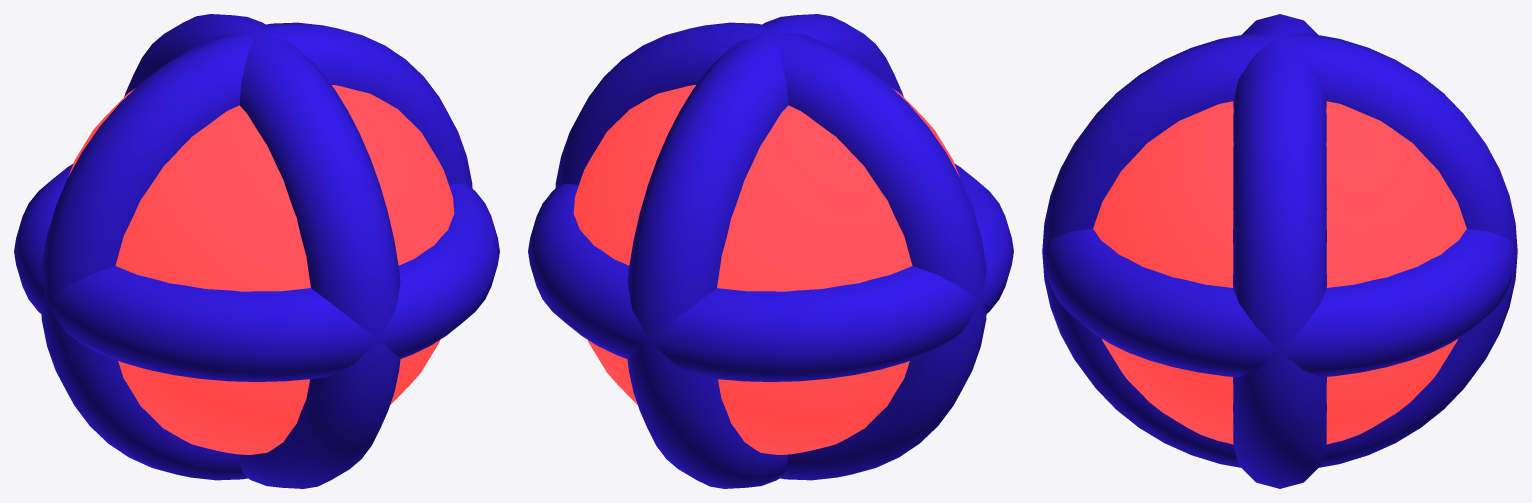
The model's file is BaseDroid2.dae.
3 views of the same model, side by side, from view 1: azimuth 30°, elevation 25°; view 2: azimuth 150°, elevation 25°; view 3: azimuth 270°, elevation 25° (orthographic). The views are drawn at different scales.
Parts seen in each view (by area): view 1: Body, Torus Y, Torus X, Torus Z; view 2: Body, Torus Y, Torus X, Torus Z; view 3: Body, Torus Z, Torus X, Torus Y.
Part boxes in pixels (box(x1,y1,x2,y2)): Body: box(68, 85, 454, 454); Torus Y: box(41, 22, 472, 480); Torus X: box(14, 163, 499, 381); Torus Z: box(124, 14, 400, 488); Body: box(573, 85, 959, 454); Torus Y: box(555, 22, 986, 480); Torus X: box(528, 163, 1013, 381); Torus Z: box(627, 14, 903, 488); Body: box(1093, 101, 1466, 444); Torus Z: box(1042, 33, 1517, 467); Torus X: box(1042, 229, 1517, 377); Torus Y: box(1233, 14, 1326, 488).
Size of the model in its own units: 2.5 by 2.5 by 2.5.
